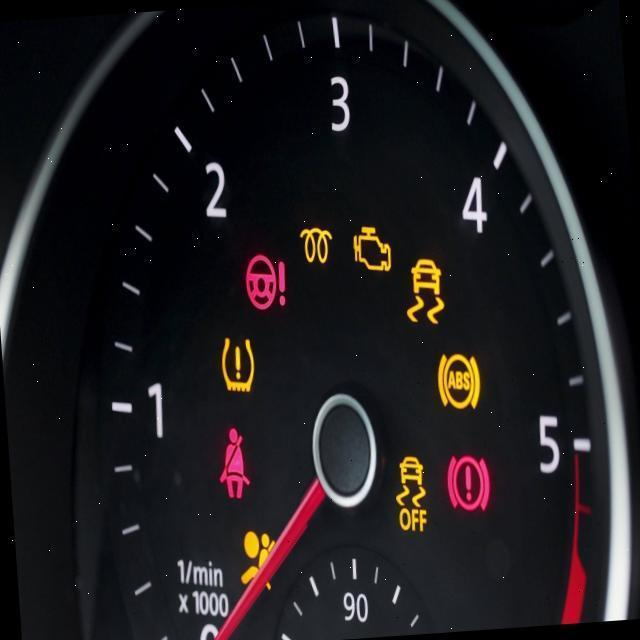Electronic Power Steering Warning: (239, 248, 289, 312)
Seat Belt: (210, 426, 252, 500)
